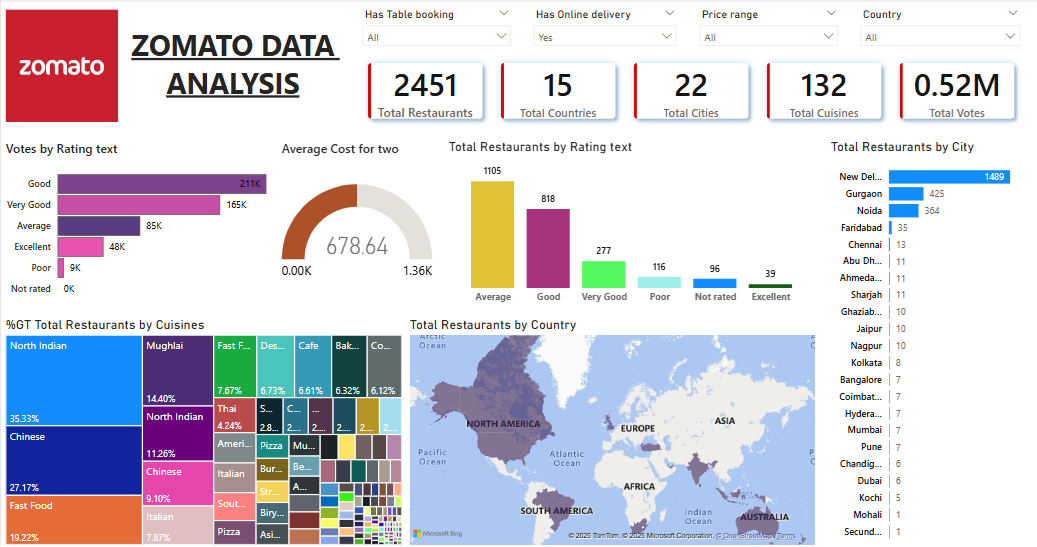

Layout of this report page (visuals, bound fields, positions):
{"tool":"powerbi","page":{"name":"Page 1","canvas":[1355,720],"ordinal":0},"visuals":[{"type":"slicer","fields":{"Values":["Country Master.Country"]},"box":[1115.7,7.1,228.6,55.7],"z":0},{"type":"slicer","fields":{"Values":["KPIs.Price range"]},"box":[904.3,7.1,201.4,55.7],"z":1000},{"type":"slicer","fields":{"Values":["KPIs.Has Online delivery"]},"box":[687.1,7.1,207.1,55.7],"z":2000},{"type":"slicer","fields":{"Values":["KPIs.Has Table booking"]},"box":[462.9,7.1,214.3,55.7],"z":3000},{"type":"cardVisual","fields":{"Data":["Zomato Sales.Total Restaurants","Country Master.Total Countries","Zomato Sales.Total Cities","Zomato Sales.Total Cuisines","Country Master.Total Votes"]},"box":[462.9,67.1,881.4,107.1],"z":4000},{"type":"barChart","fields":{"Category":["Zomato Sales.City"],"Y":["Zomato Sales.Total Restaurants"]},"box":[1081.4,182.9,273.6,537.1],"z":5000},{"type":"treemap","fields":{"Group":["Zomato Sales.Cuisines"],"Values":["Zomato Sales.Total Restaurants"]},"box":[1.5,416.4,528.4,303],"z":6000},{"type":"filledMap","fields":{"Category":["Country Master.Country"]},"box":[529.9,416.4,540.3,303],"z":7000},{"type":"columnChart","fields":{"Y":["Zomato Sales.Total Restaurants"],"Category":["KPIs.Rating text"]},"box":[580.6,183.6,489.6,225.4],"z":8000},{"type":"clusteredBarChart","title":"Votes by Rating text","fields":{"Category":["KPIs.Rating text"],"Y":["Sum(KPIs.Votes)"]},"box":[1.4,184.3,351.4,224.3],"z":9000},{"type":"gauge","title":"Average Cost for two","fields":{"Y":["Avg(KPIs.Average Cost for two)"]},"box":[362.9,184.3,207.1,224.3],"z":10000},{"type":"image","box":[1.4,0,157.1,174.3],"z":11000},{"type":"textbox","box":[158.6,30,290,114.3],"z":12000}]}

Visuals, with their boxes in screenshot pixels (x1, y1, x2, y2), scaled from the page's 1355x720 canvas onto the 1037x547 screenshot:
slicer - Country Master.Country: 854,5,1029,48
slicer - KPIs.Price range: 692,5,846,48
slicer - KPIs.Has Online delivery: 526,5,684,48
slicer - KPIs.Has Table booking: 354,5,518,48
cardVisual - Zomato Sales.Total Restaurants x Country Master.Total Countries: 354,51,1029,132
barChart - Zomato Sales.City x Zomato Sales.Total Restaurants: 828,139,1036,546
treemap - Zomato Sales.Cuisines x Zomato Sales.Total Restaurants: 1,316,406,546
filledMap - Country Master.Country: 406,316,819,546
columnChart - Zomato Sales.Total Restaurants x KPIs.Rating text: 444,139,819,311
"Votes by Rating text" clusteredBarChart: 1,140,270,310
"Average Cost for two" gauge: 278,140,436,310
image: 1,0,121,132
textbox: 121,23,343,110
